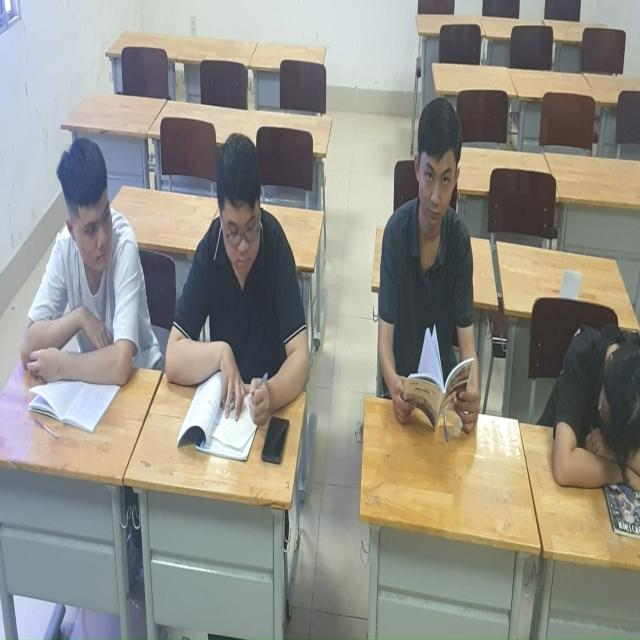read: (152, 139, 312, 457), (359, 86, 487, 470), (13, 120, 157, 448)
sleep: (541, 295, 640, 524)
